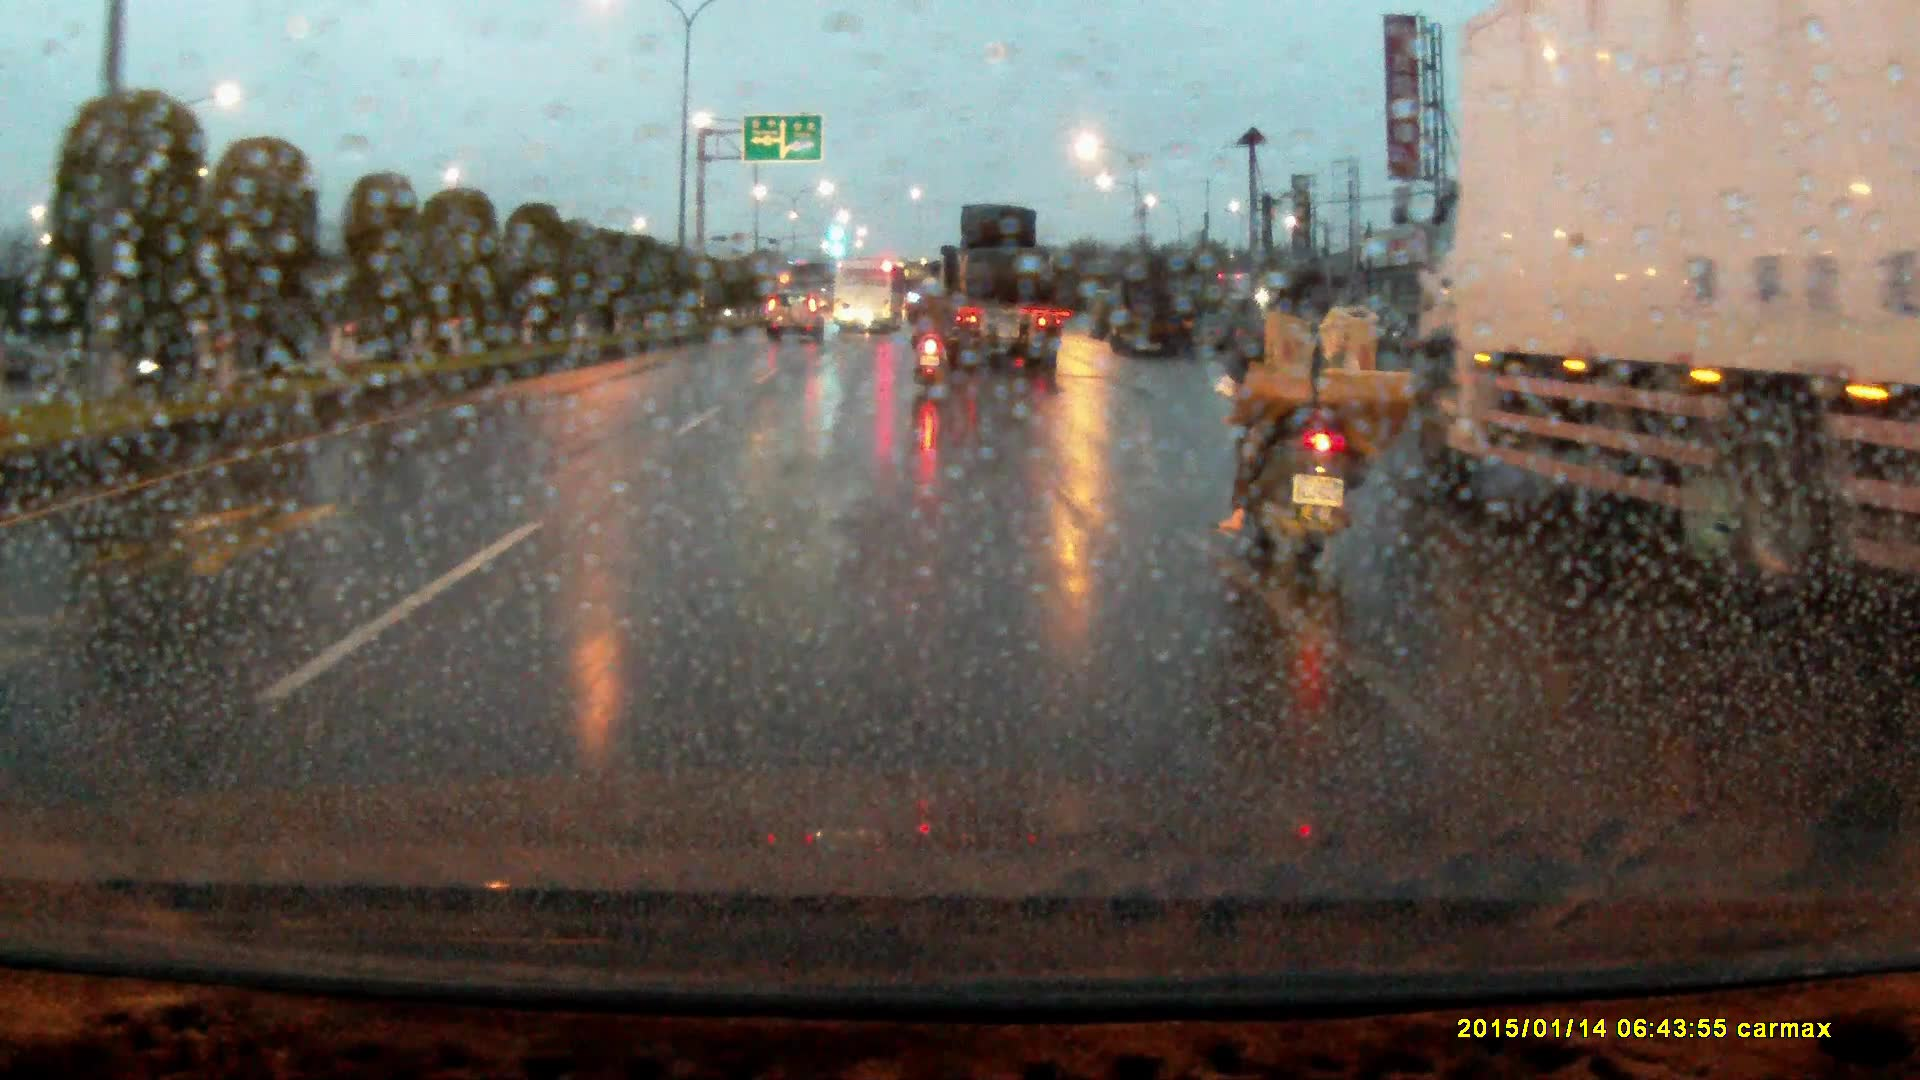rider: (1213, 253, 1421, 587), (910, 283, 954, 395)
vehicle: (1407, 1, 1920, 578), (918, 203, 1061, 371), (1115, 260, 1199, 358), (836, 260, 906, 334), (768, 291, 825, 341), (1090, 288, 1125, 336)
